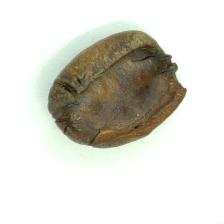NG: (61, 46, 169, 131)
